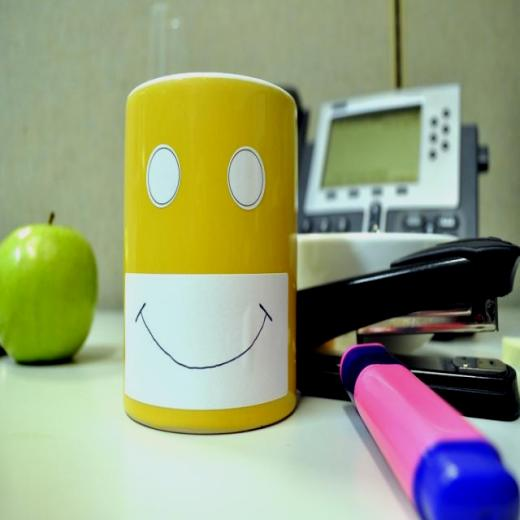Apple: (1, 218, 96, 368)
